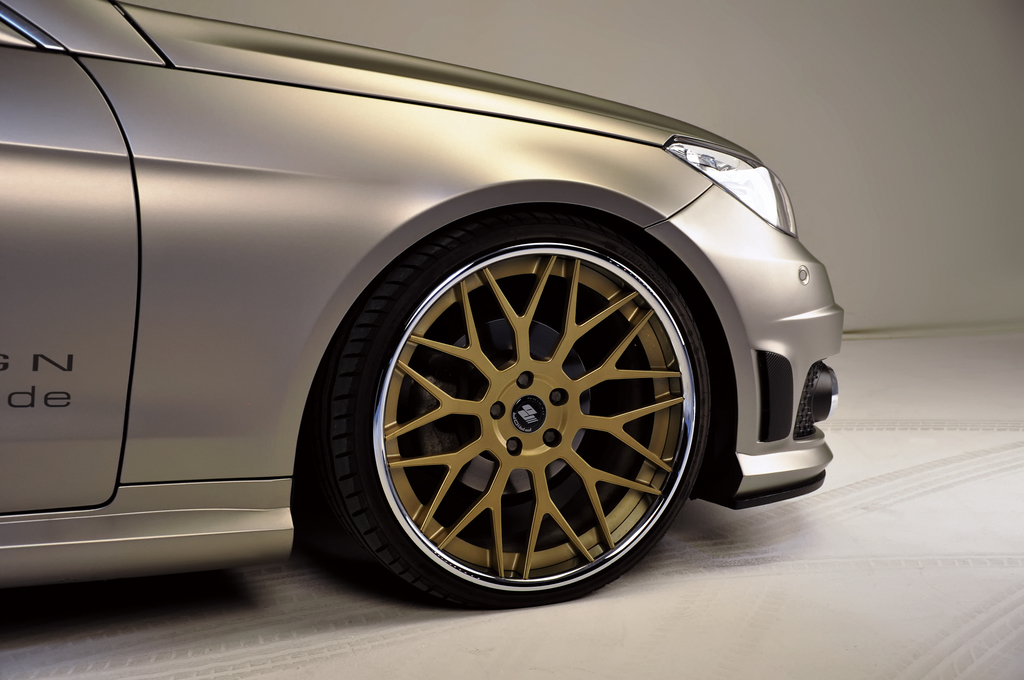Car: (0, 0, 845, 606)
